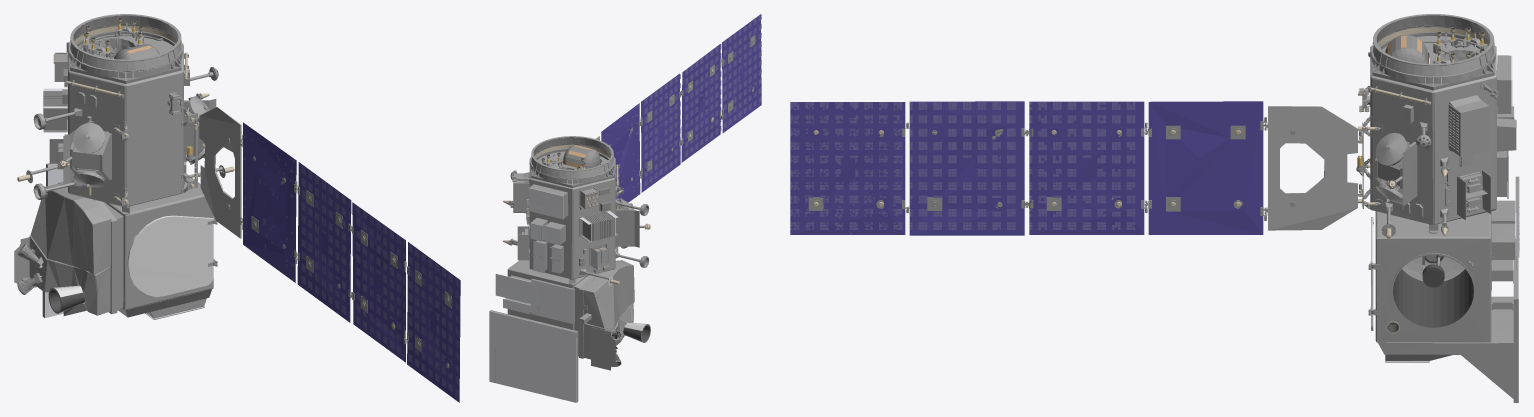
Rendered from icesat2.glb.
3 views of the same model, side by side, from view 1: azimuth 30°, elevation 25°; view 2: azimuth 150°, elevation 25°; view 3: azimuth 270°, elevation 25° (orthographic). The views are drawn at different scales.
Visible parts, largest first — view 1: MainBus; view 2: MainBus; view 3: MainBus.
Part boxes in pixels (x1=…): MainBus: x1=14, y1=14, x2=460, y2=402; MainBus: x1=489, y1=14, x2=761, y2=402; MainBus: x1=790, y1=14, x2=1519, y2=402.
Size of the model in its own units: 2.38 by 3.74 by 7.56.
